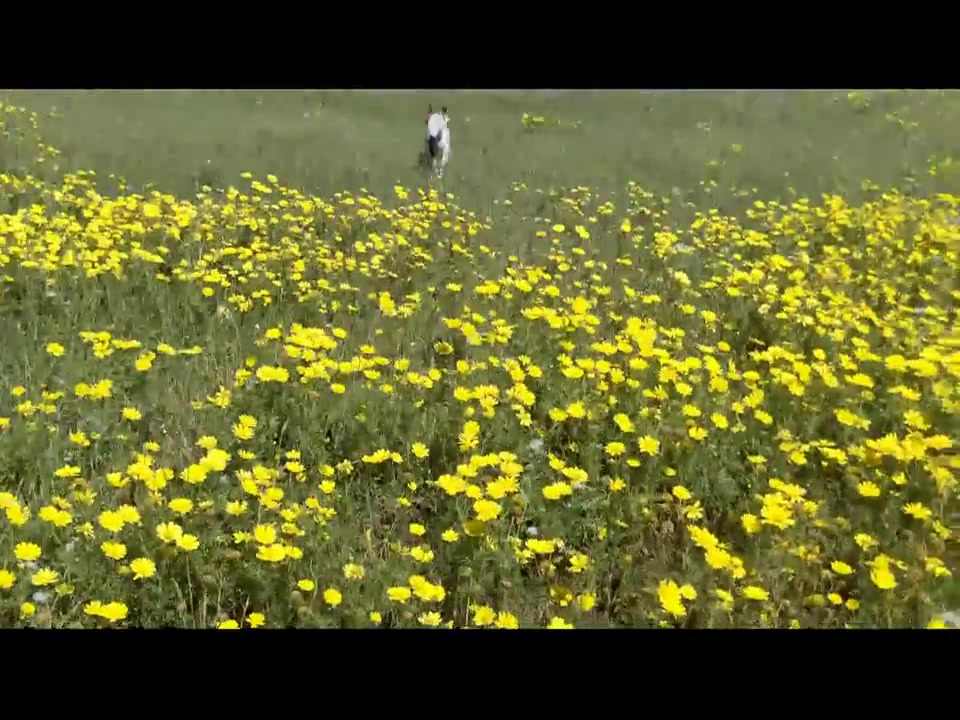dog: (425, 109, 456, 182)
